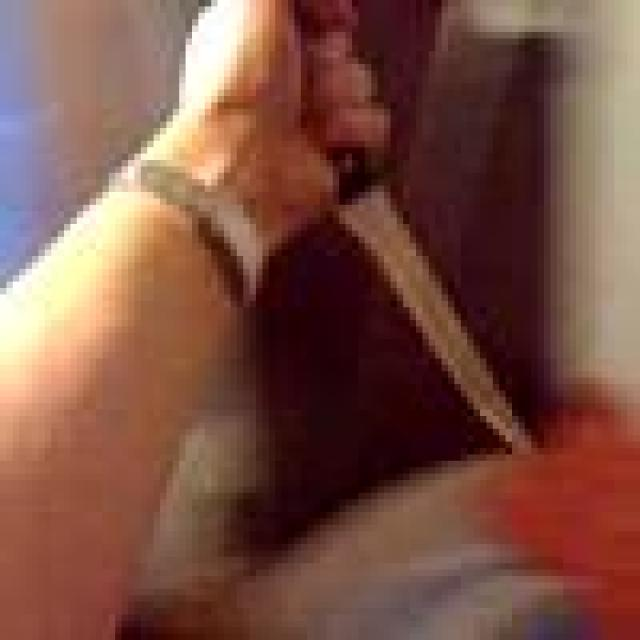knife: (338, 167, 557, 473)
